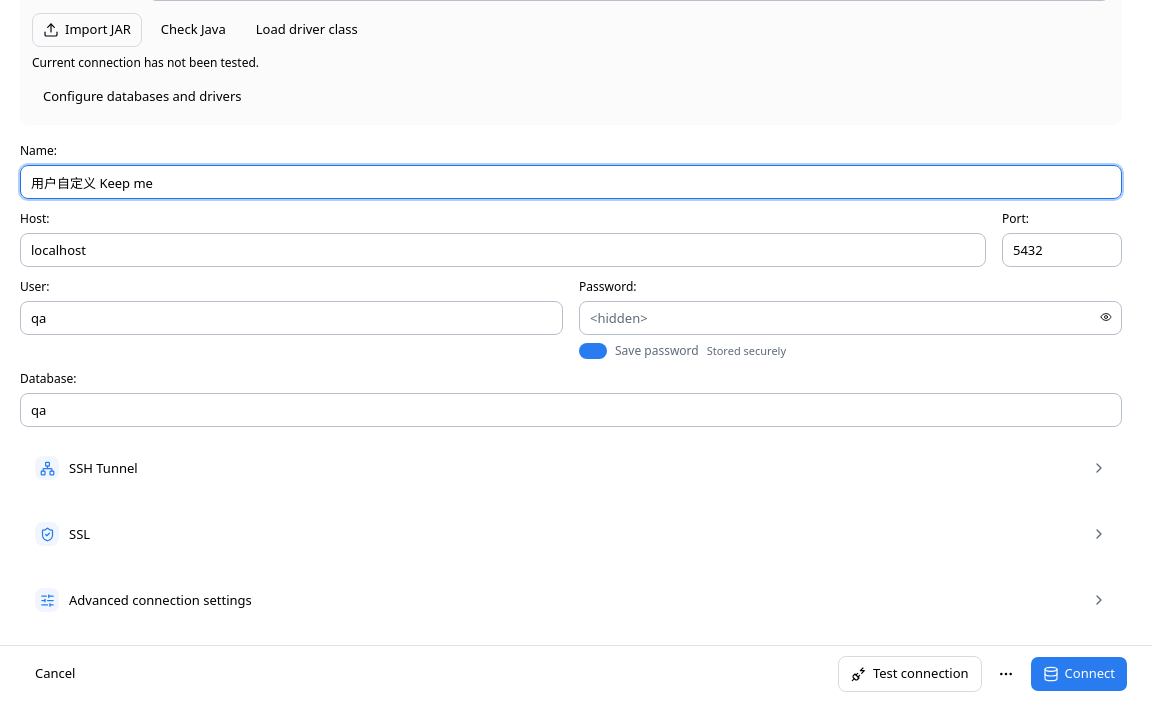
Test case: invalidates a completed result when port changes
(page scrolled)
Step 1. Click the button "Test connection" → (910, 674), box [838,656,982,692]
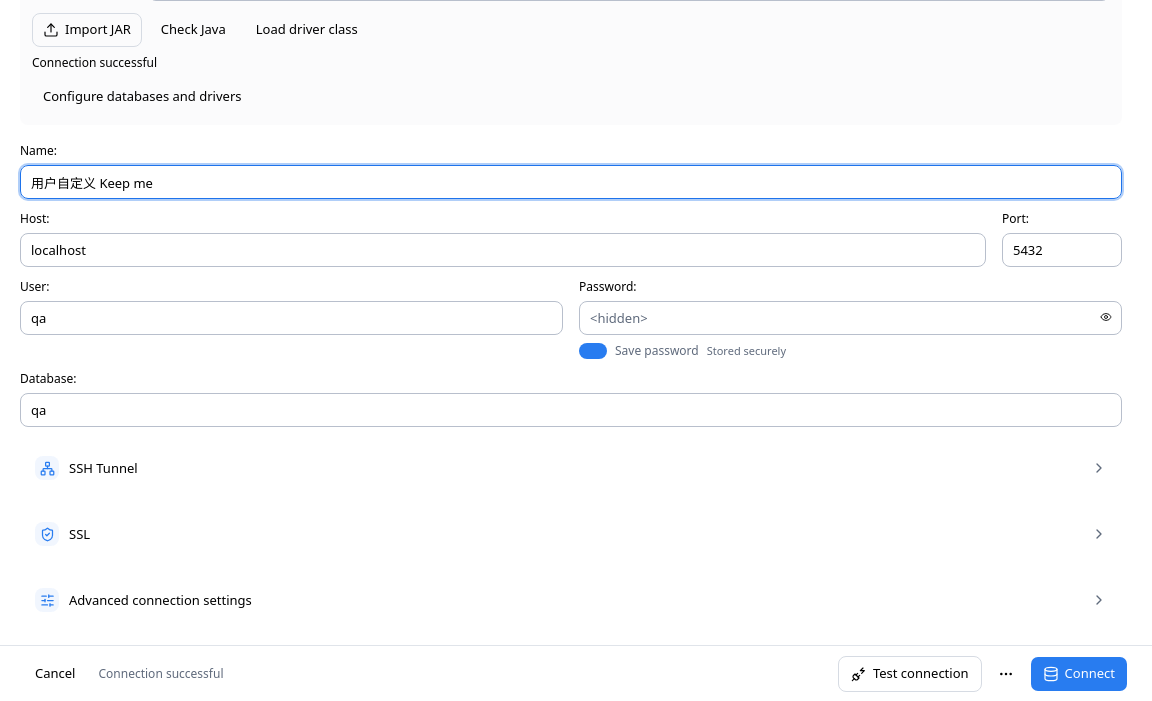
Step 2. Replace the text in the number field labelled "Port:" with "6543" → (1062, 250), box [1002,233,1122,267]
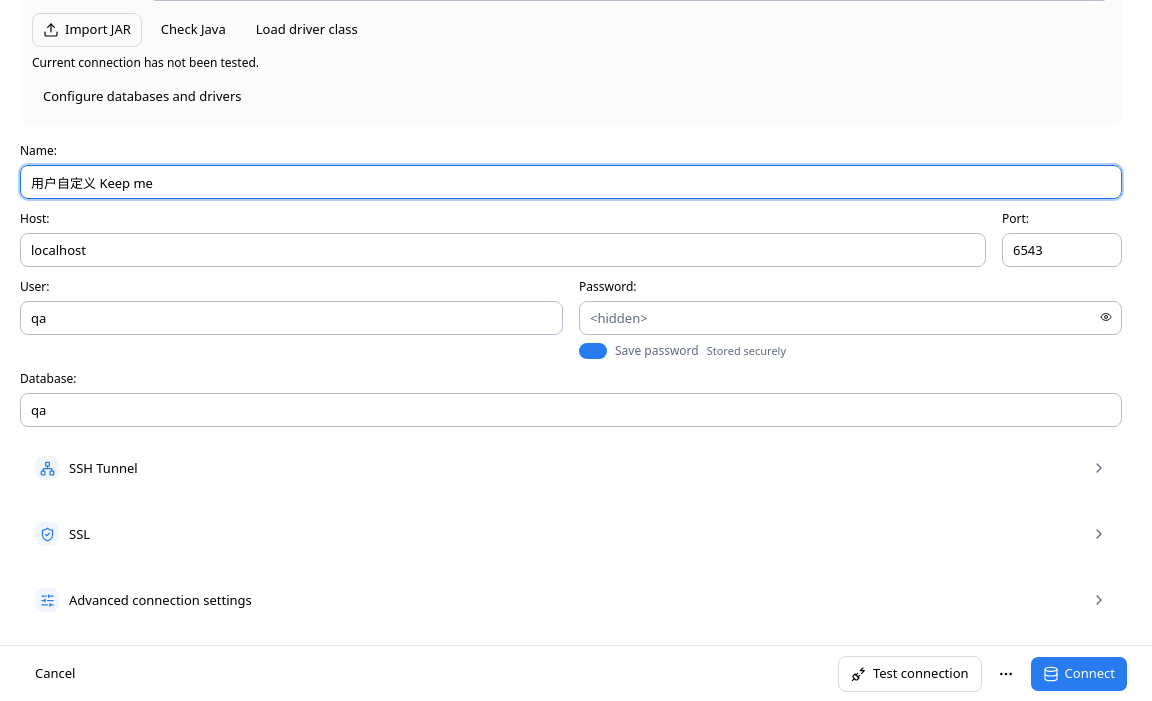
Expected: the text "Connection successful" is gone
Expected: the text "Current connection has not been tested." is shown, [32,54,259,71]
